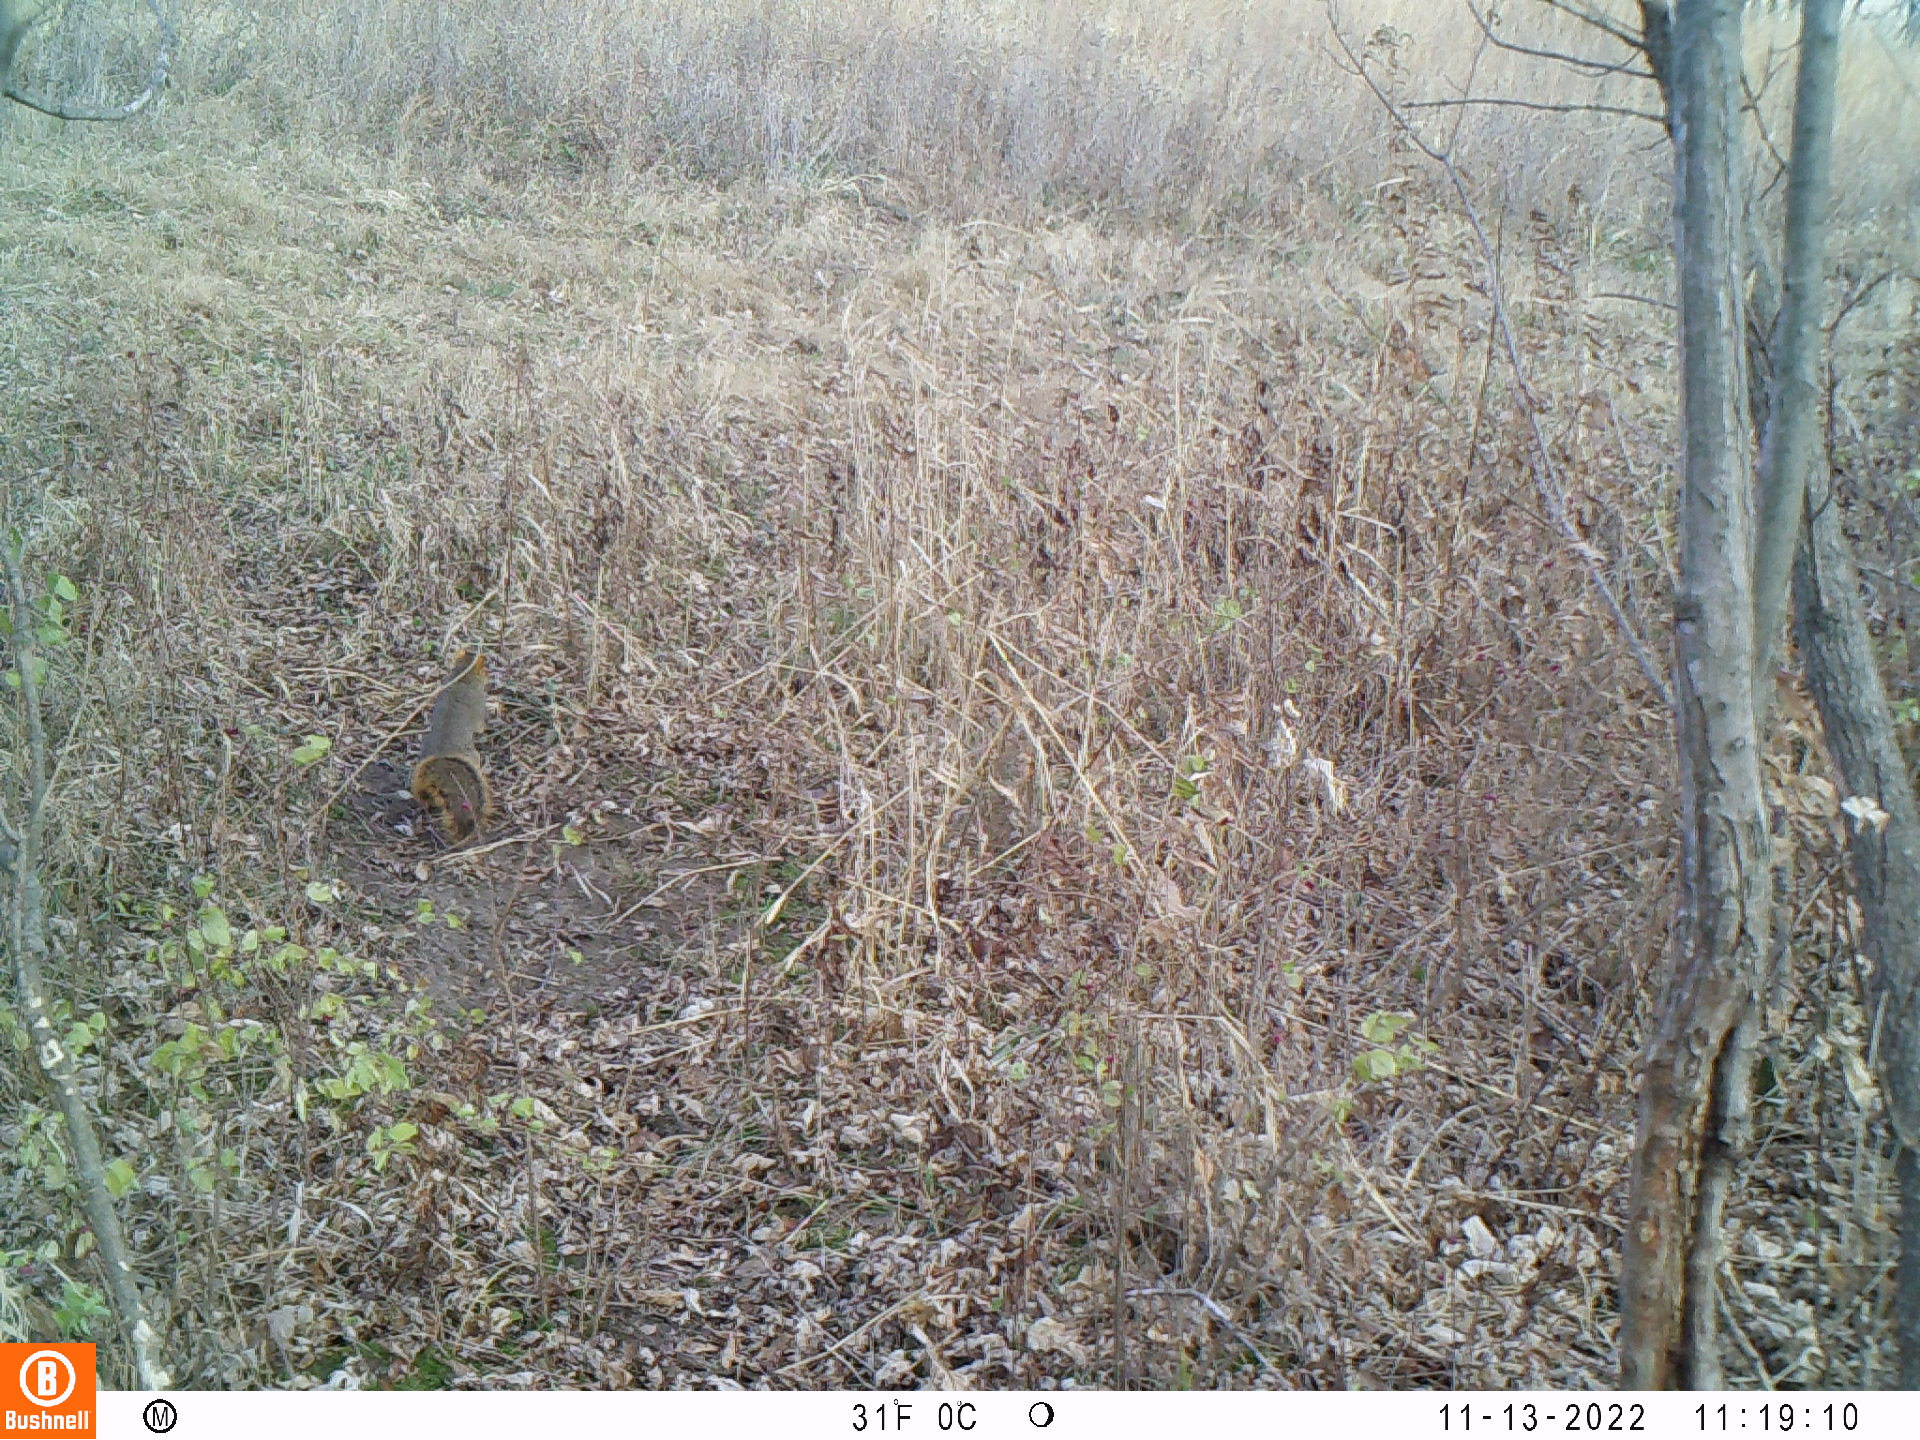Squirrel: (410, 641, 493, 833)
